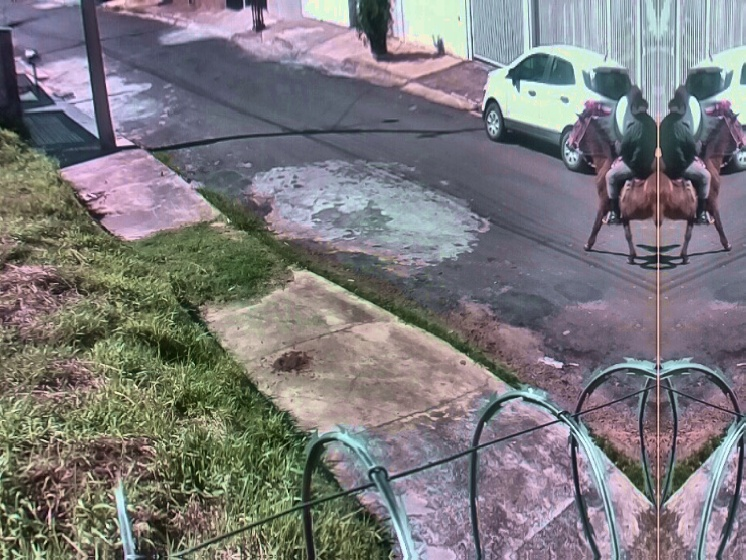person: (601, 87, 715, 226)
